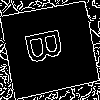B: (25, 24, 72, 66)
